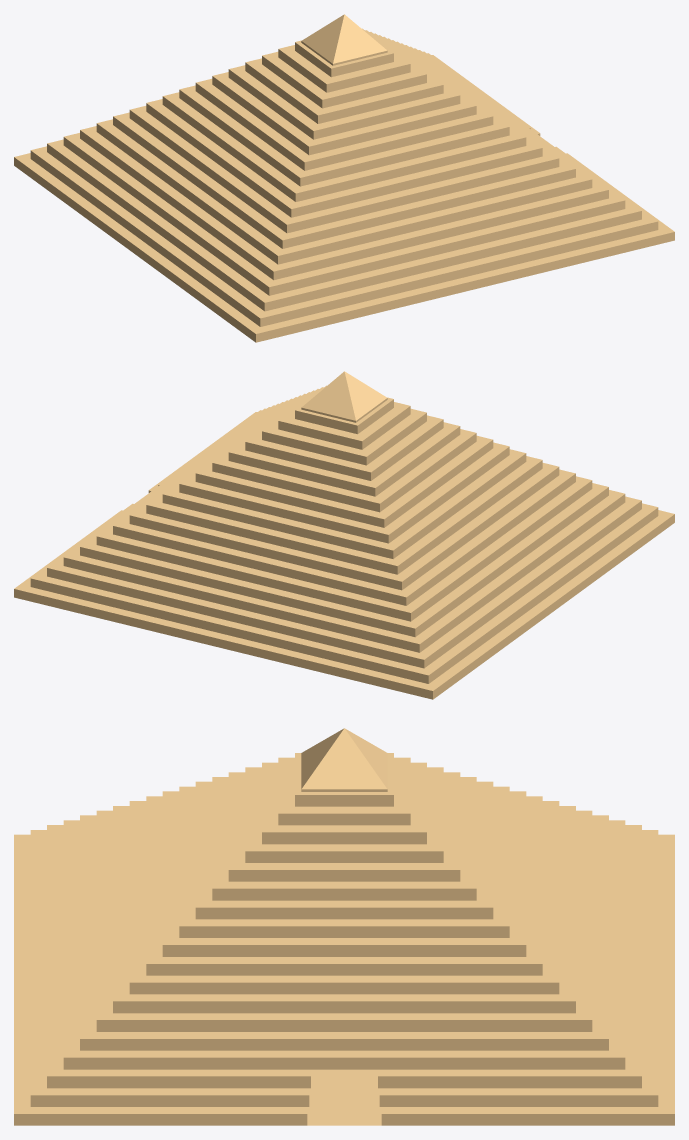
The picture shows the model from 3 angles, top to bottom: view 1: azimuth 30°, elevation 25°; view 2: azimuth 150°, elevation 25°; view 3: azimuth 270°, elevation 25°; orthographic projection. The views are drawn at different scales.
Parts seen in each view (by area): view 1: Cube; view 2: Cube; view 3: Cube.
Part boxes in pixels (bbox=[...]): Cube: bbox=[14, 14, 674, 342]; Cube: bbox=[14, 371, 674, 699]; Cube: bbox=[14, 728, 674, 1125].
Size of the model in its own units: 5081 by 2188 by 5081.
